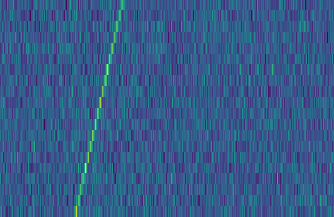signal: (68, 0, 127, 217)
